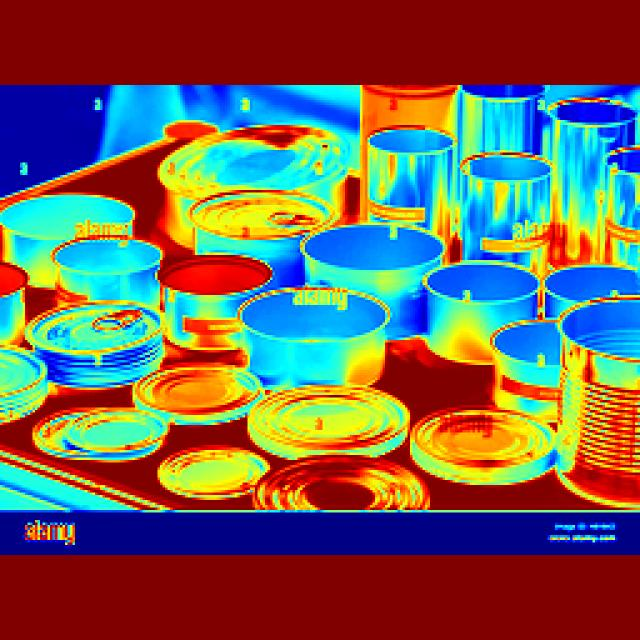Aluminium Food Cans: (165, 123, 355, 200), (320, 211, 453, 309), (418, 402, 541, 493), (241, 383, 398, 449), (38, 302, 164, 378), (200, 182, 329, 256), (2, 202, 146, 266), (461, 152, 560, 243), (52, 238, 170, 312), (259, 295, 380, 365), (259, 457, 398, 512), (371, 128, 459, 212), (479, 318, 568, 400), (170, 256, 252, 340), (144, 360, 238, 431), (440, 259, 538, 325), (52, 410, 156, 463), (367, 86, 468, 138), (460, 88, 538, 148)
